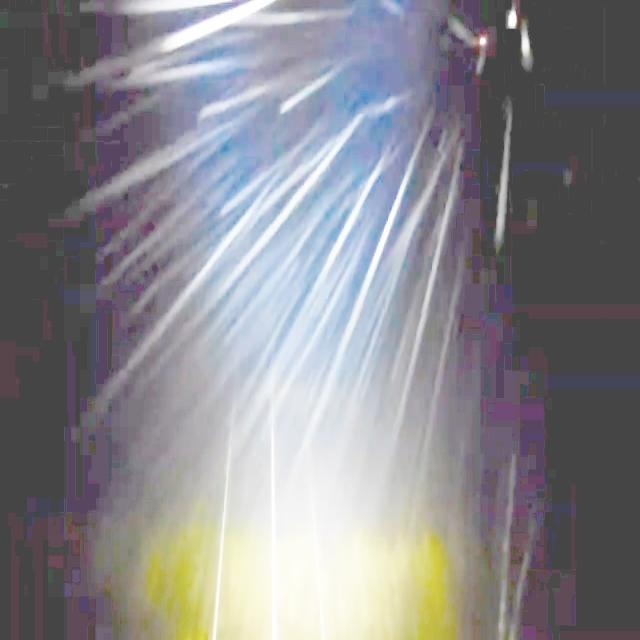wires: (210, 432, 232, 639), (309, 482, 326, 639), (268, 398, 278, 639)
